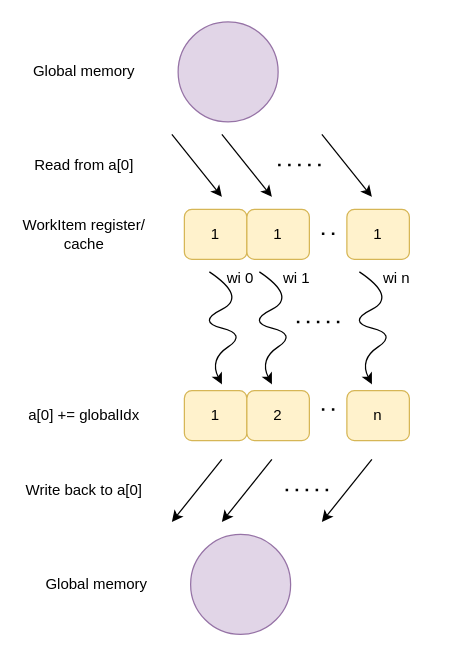
Image size: 455x656. Some labels were removed from this diagram. Each missing label, with the centre of its shape:
"a[0] = 1" goes at (x=227, y=71).
"a[0] = ?" goes at (x=240, y=583).
